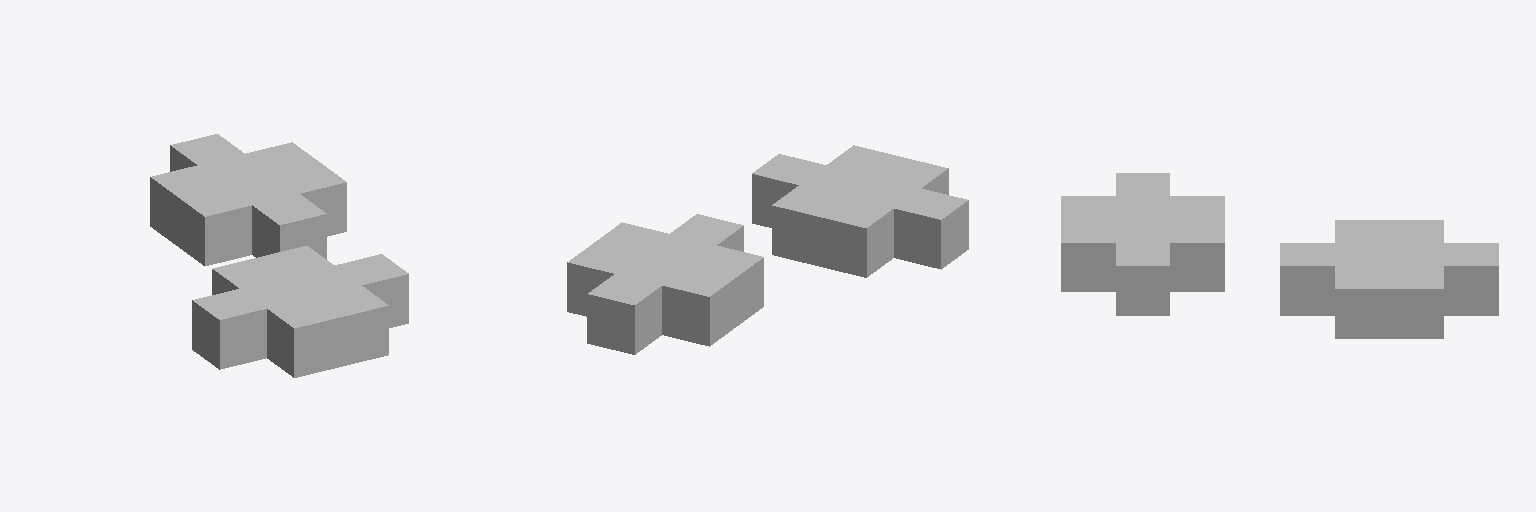
File: leafGreen2-0.obj
3 views of the same model, side by side, from view 1: azimuth 30°, elevation 25°; view 2: azimuth 150°, elevation 25°; view 3: azimuth 270°, elevation 25° (orthographic).
Visible parts, largest first — view 1: object 1; view 2: object 1; view 3: object 1.
Boxes of the visible parts, x1=… form: object 1: x1=150, y1=134, x2=408, y2=377; object 1: x1=567, y1=145, x2=968, y2=354; object 1: x1=1061, y1=173, x2=1498, y2=338.
Bounding box in the file's own units: 0.5 × 0.1 × 0.8.